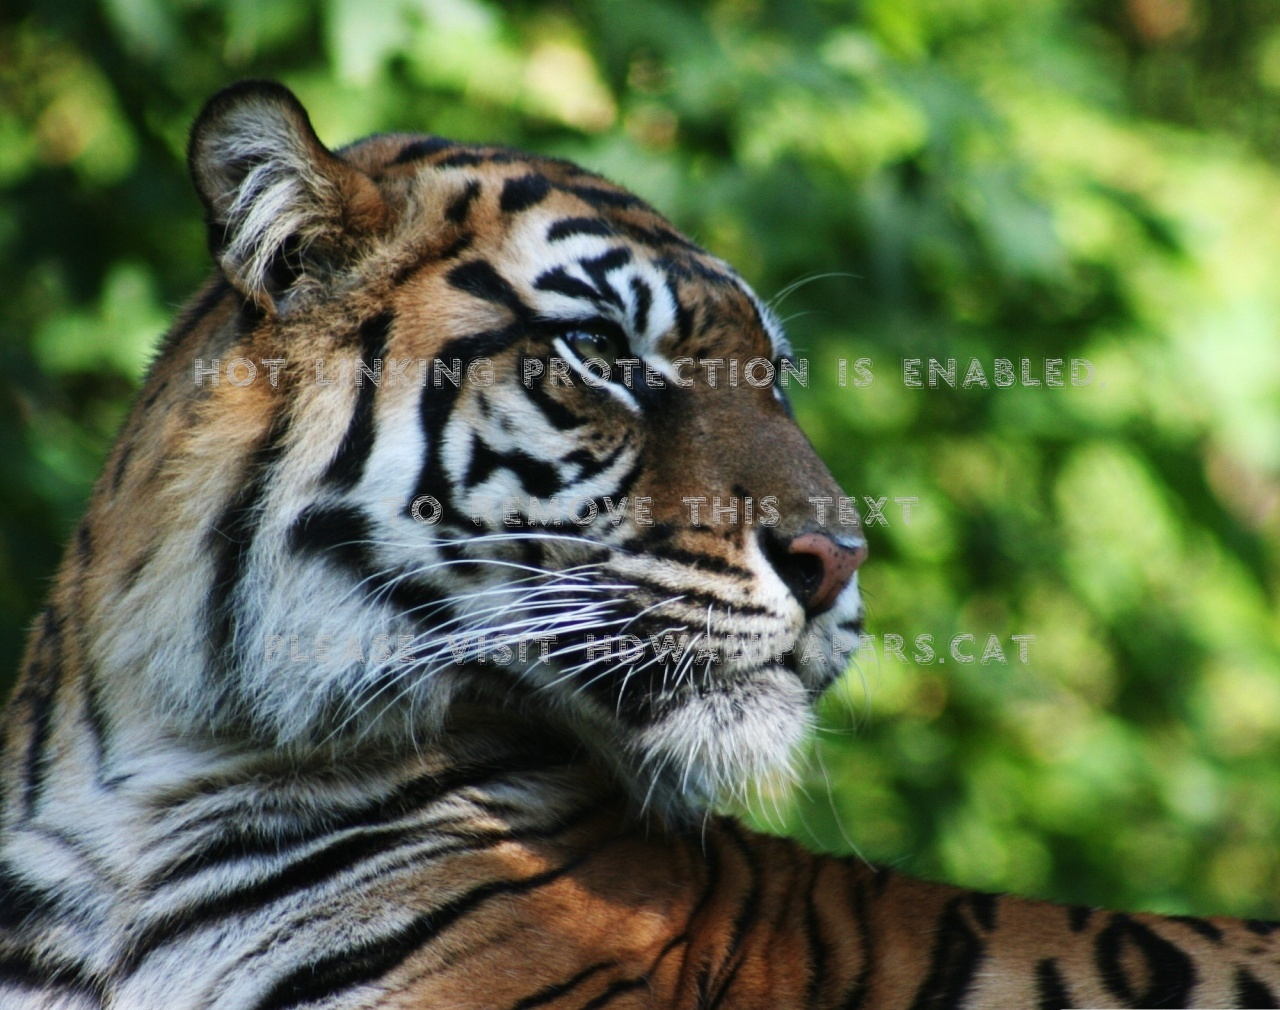Tigrew: (31, 70, 1177, 922)
